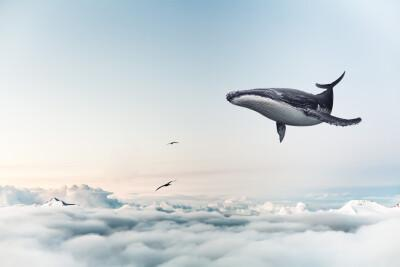fish: (212, 70, 363, 143)
